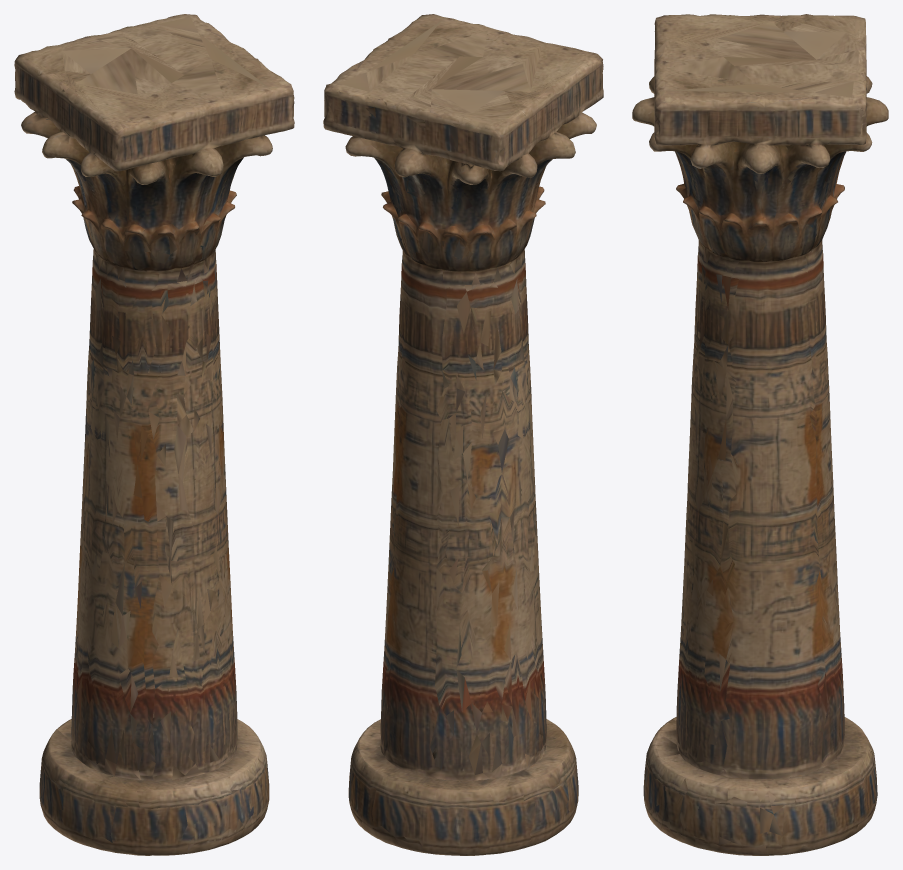
Rendered from pillar_papyrus.glb.
3 views of the same model, side by side, from view 1: azimuth 30°, elevation 25°; view 2: azimuth 150°, elevation 25°; view 3: azimuth 270°, elevation 25° (orthographic).
Parts seen in each view (by area): view 1: prop; view 2: prop; view 3: prop.
Boxes of the visible parts, x1=… form: prop: x1=14, y1=14, x2=294, y2=855; prop: x1=323, y1=14, x2=603, y2=855; prop: x1=632, y1=14, x2=888, y2=855.
Bounding box in the file's own units: 1.56 × 5 × 1.54.
Materials: 1 (1 with a texture image).
